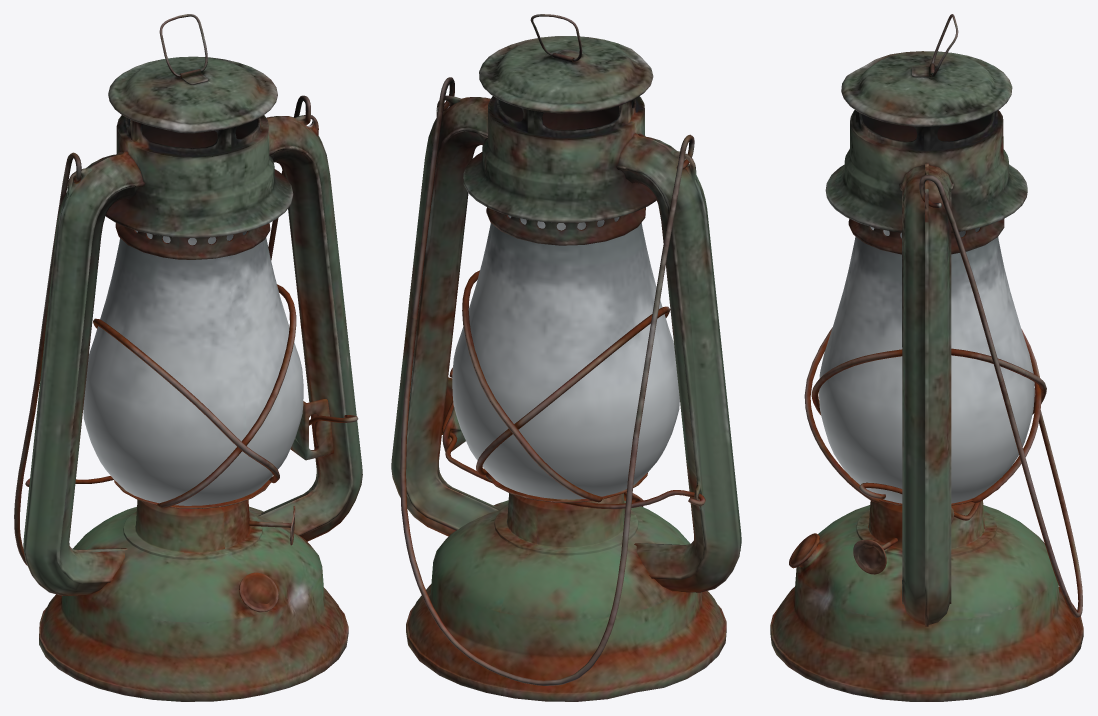
The model's file is lantern.glb.
3 renders of one model, left to right at view 1: azimuth 30°, elevation 25°; view 2: azimuth 150°, elevation 25°; view 3: azimuth 270°, elevation 25°, orthographic. The views are drawn at different scales.
Parts seen in each view (by area): view 1: BezierCurve.003; view 2: BezierCurve.003; view 3: BezierCurve.003.
Boxes of the visible parts, left/top/right/bottom form: BezierCurve.003: left=14, top=14, right=362, bottom=701; BezierCurve.003: left=391, top=14, right=741, bottom=701; BezierCurve.003: left=770, top=14, right=1083, bottom=701.
Bounding box in the file's own units: 35.7 × 61.93 × 28.56.
1 material, 1 textured.
